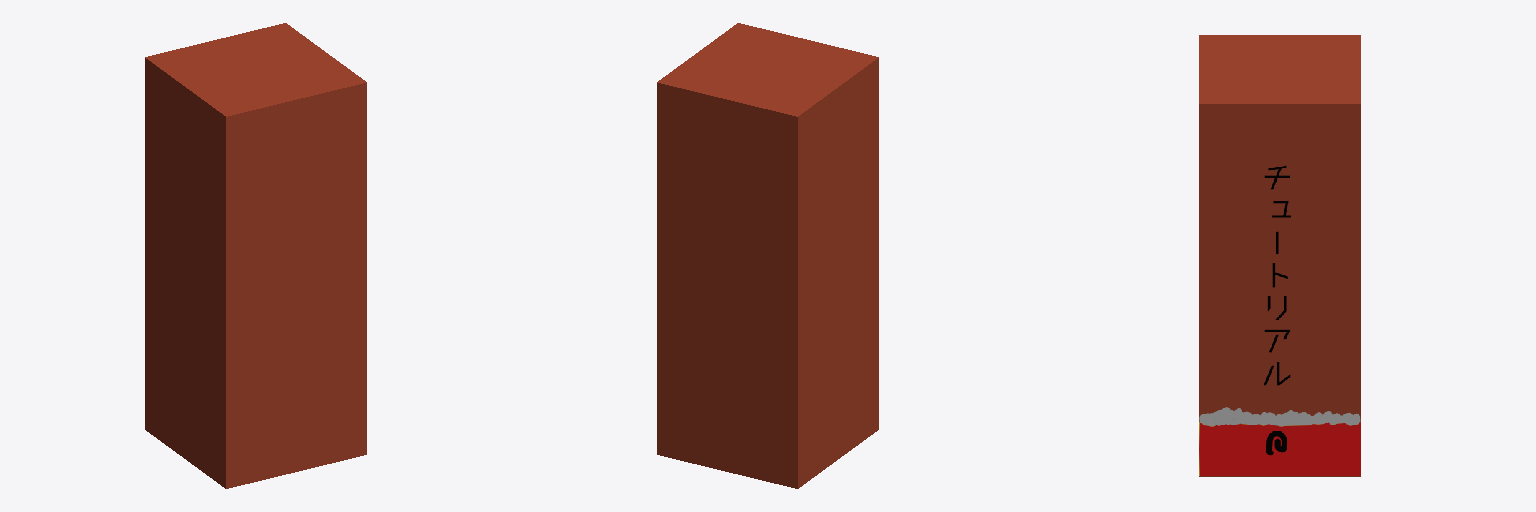
The picture shows the model from 3 angles: view 1: azimuth 30°, elevation 25°; view 2: azimuth 150°, elevation 25°; view 3: azimuth 270°, elevation 25°; orthographic projection.
Parts seen in each view (by area): view 1: Cube; view 2: Cube; view 3: Cube.
Boxes of the visible parts, x1,y1,x2,y2 form: Cube: [145, 23, 366, 488]; Cube: [657, 23, 878, 488]; Cube: [1199, 35, 1360, 476].
Bounding box in the file's own units: 2 × 5.04 × 2.
1 materials, 1 textured.